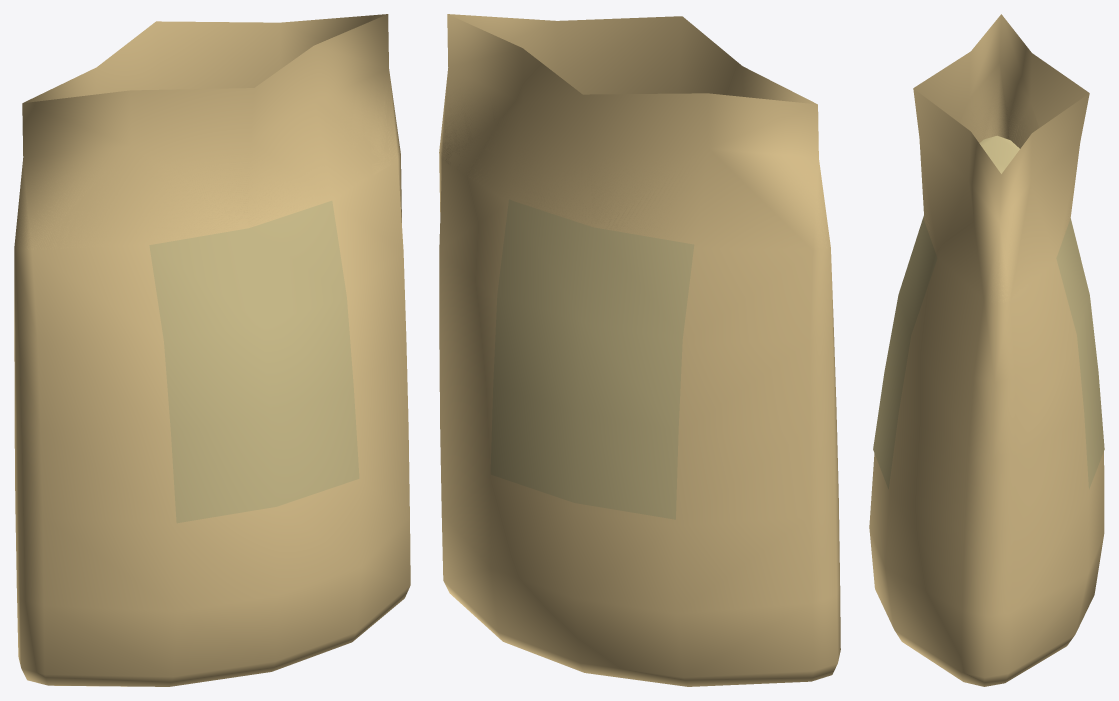
The model's file is Ingredient Bag.fbx.
3 views of the same model, side by side, from view 1: azimuth 30°, elevation 25°; view 2: azimuth 150°, elevation 25°; view 3: azimuth 270°, elevation 25° (orthographic). The views are drawn at different scales.
Parts seen in each view (by area): view 1: Cube.042; view 2: Cube.042; view 3: Cube.042.
Part boxes in pixels (x1=…): Cube.042: x1=14, y1=14, x2=410, y2=686; Cube.042: x1=439, y1=14, x2=840, y2=686; Cube.042: x1=869, y1=14, x2=1104, y2=686.
Bounding box in the file's own units: 101 × 145 × 59.3.
